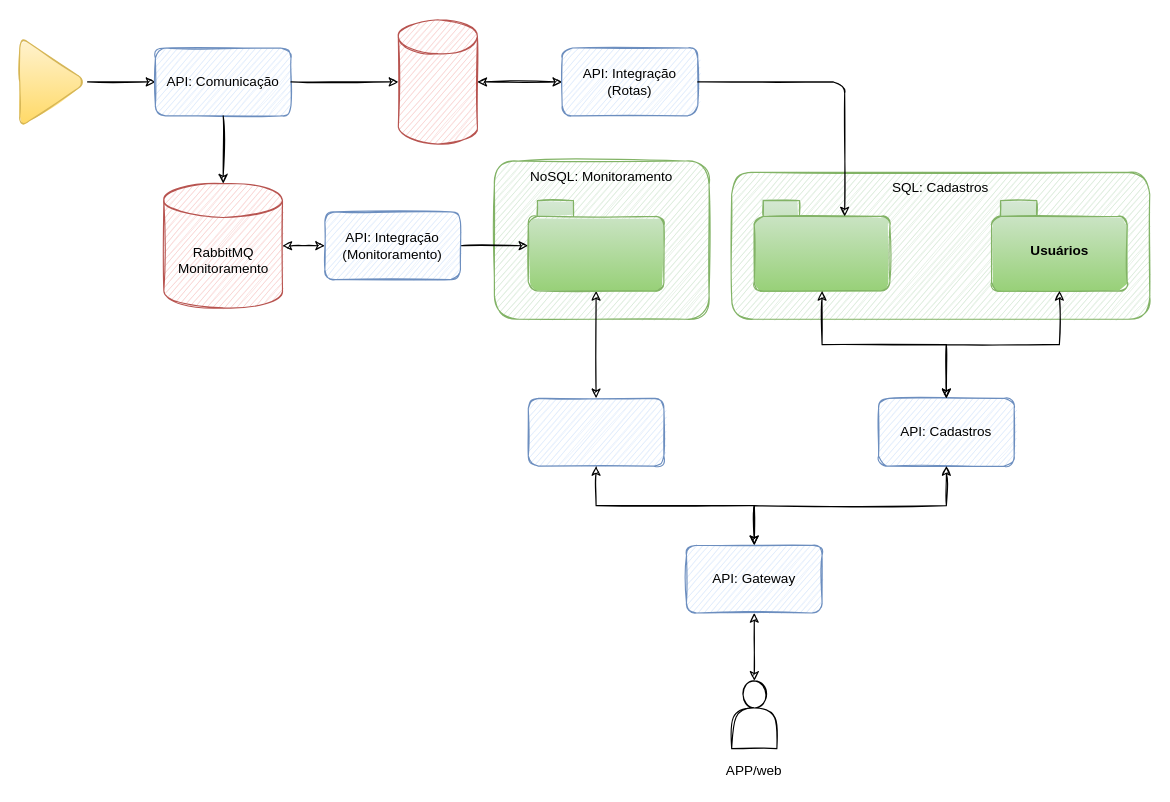
Image size: 1170x802. Some labels were removed from this diagram. The centre of each missing label's shape, as x and y in pixels:
API: Monitoramento: (595,431)
Monitoramento: (595,245)
RabbitMQ Rotas: (437,81)
Rotas: (821,245)
TCP: (53,81)
